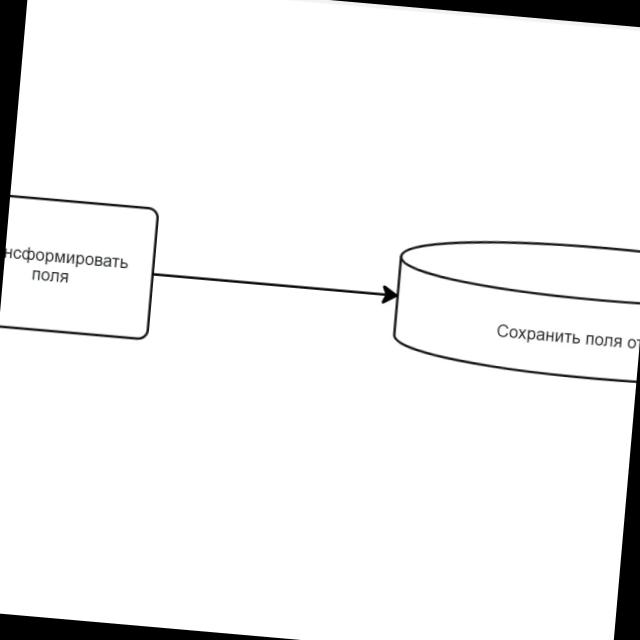arrow: (150, 262, 397, 308)
